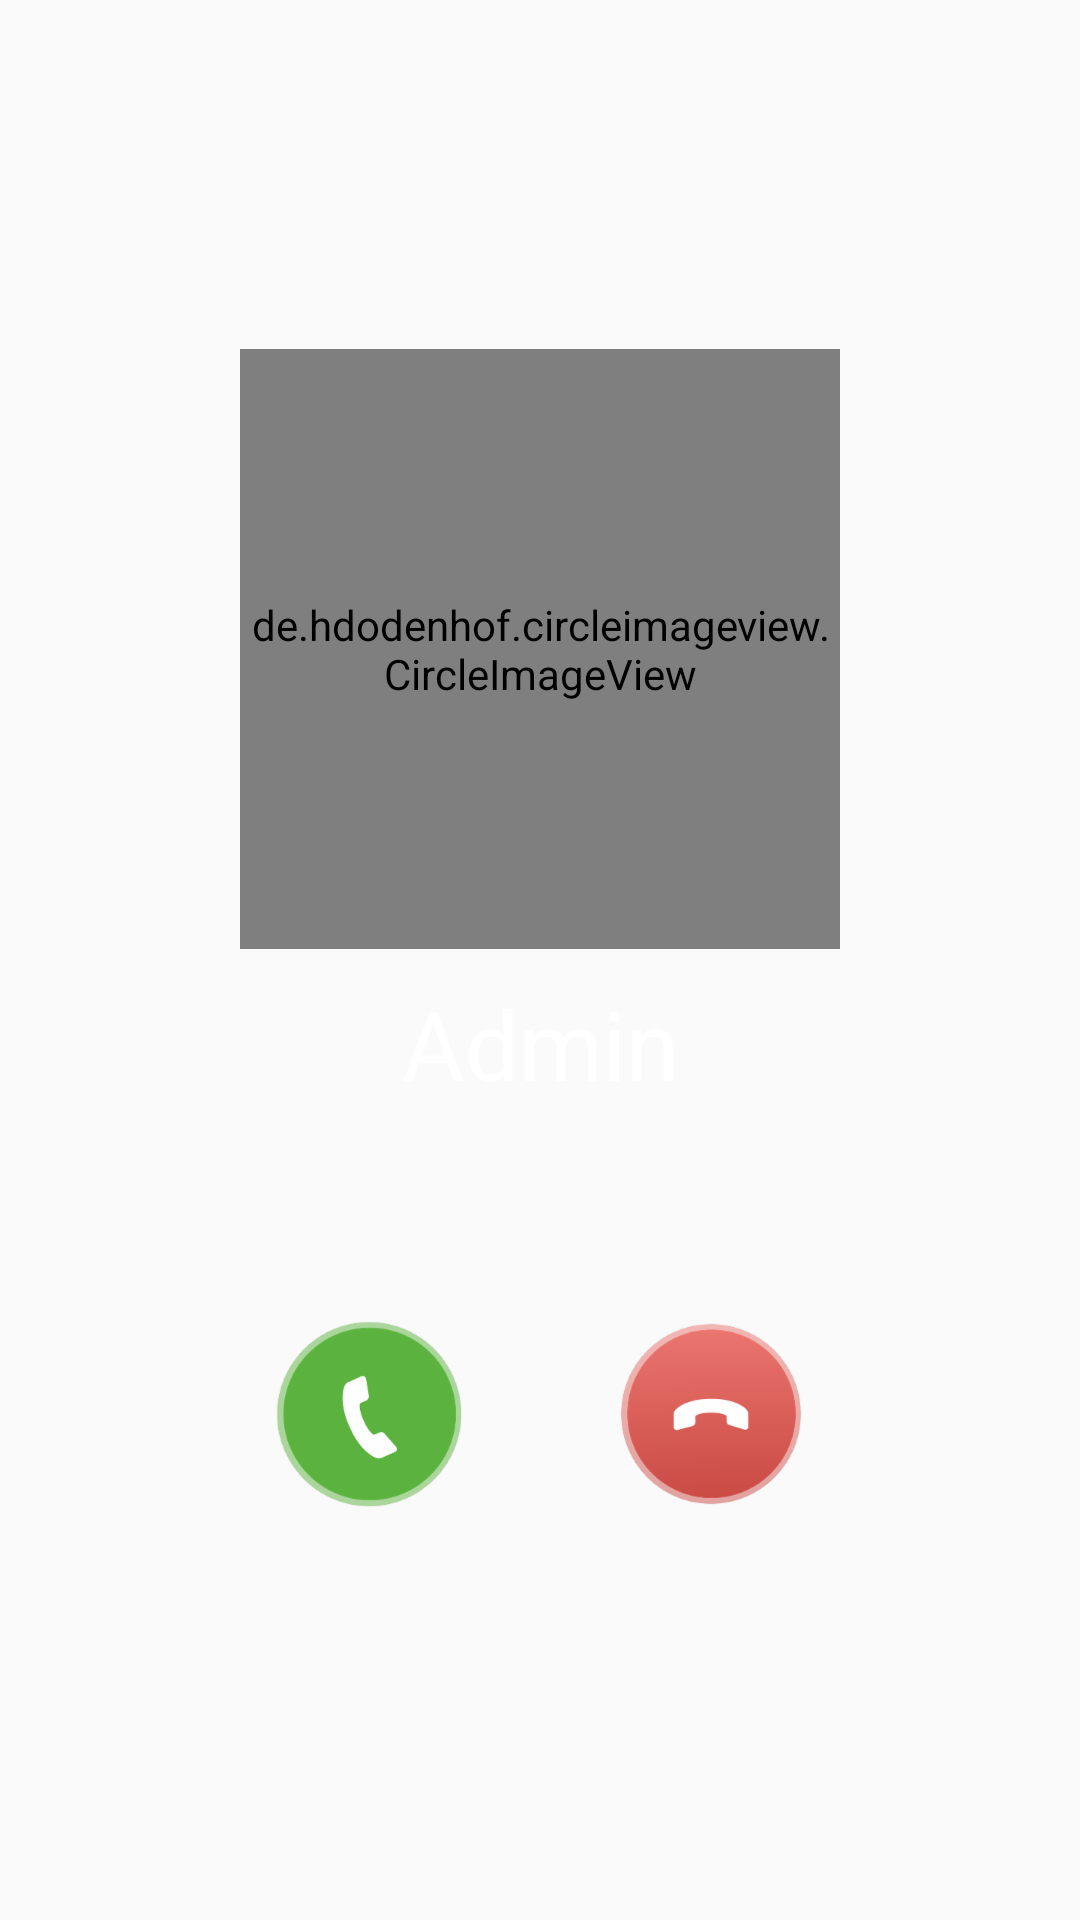

Where icons sit on this 1080x1920 app screen, as (x1, y1, x2, y2):
answer: (277, 1322, 461, 1506)
reject: (621, 1324, 801, 1504)
